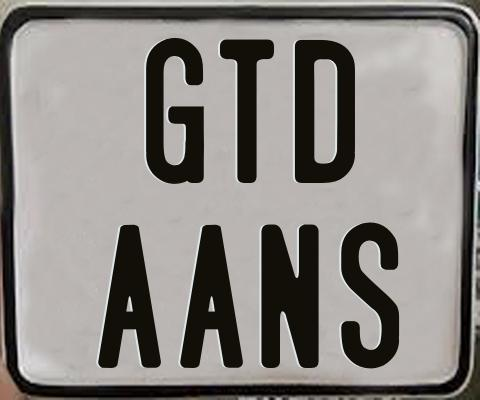A: (178, 225, 242, 369), (95, 222, 158, 368)
D: (294, 38, 360, 181)
G: (144, 38, 207, 188)
N: (261, 222, 321, 371)
S: (339, 221, 403, 372)
T: (219, 38, 276, 187)
